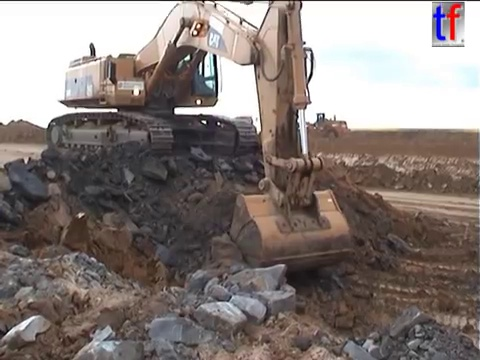excavator: (43, 1, 357, 277)
wheel loader: (294, 111, 349, 141)
